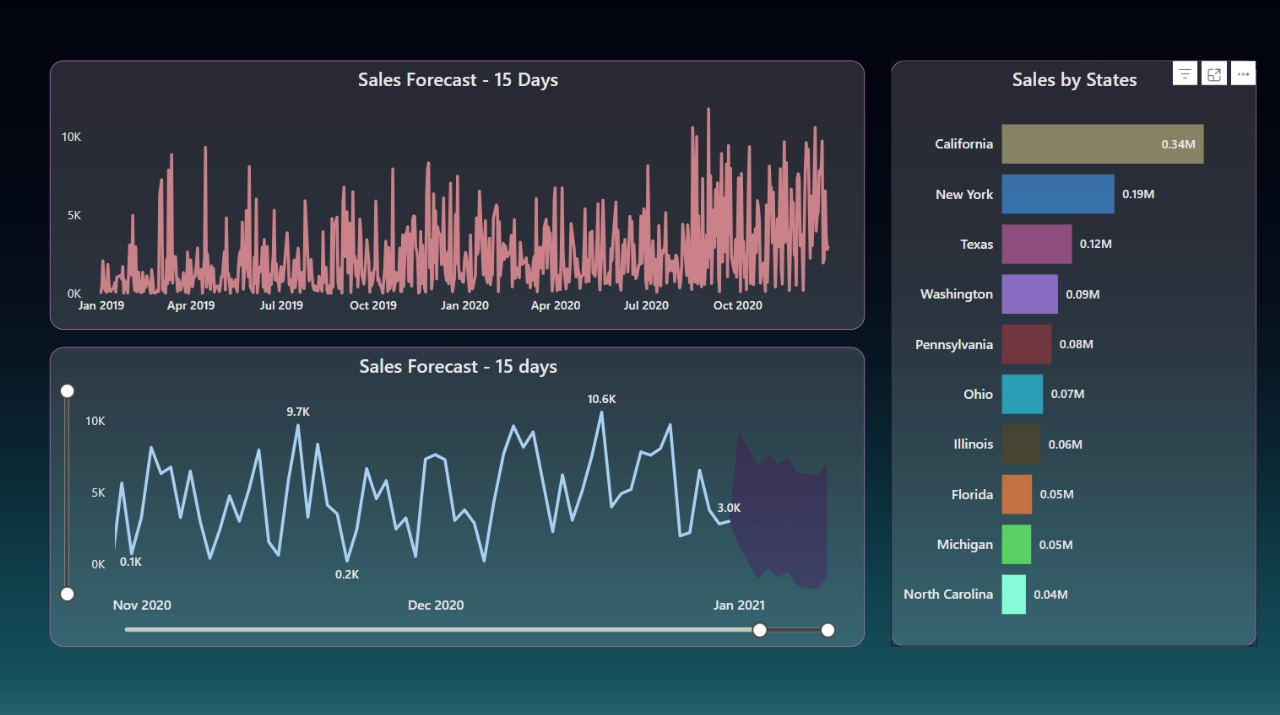

The page's visual inventory and layout, read from the dashboard file:
{"tool":"powerbi","page":{"name":"Forecast","canvas":[1280,720],"ordinal":1},"visuals":[{"type":"lineChart","title":"Sales Forecast - 15 days","fields":{"Y":["Sum(SuperStore_Sales_Dataset.Sales)"],"Category":["SuperStore_Sales_Dataset.Order Date.Variation.Date Hierarchy.Year","SuperStore_Sales_Dataset.Order Date.Variation.Date Hierarchy.Quarter","SuperStore_Sales_Dataset.Order Date.Variation.Date Hierarchy.Month","SuperStore_Sales_Dataset.Order Date.Variation.Date Hierarchy.Day"]},"box":[50,347.6,814.6,300],"z":0},{"type":"lineChart","title":"Sales Forecast - 15 Days","fields":{"Y":["Sum(SuperStore_Sales_Dataset.Sales)"],"Category":["SuperStore_Sales_Dataset.Order Date.Variation.Date Hierarchy.Year","SuperStore_Sales_Dataset.Order Date.Variation.Date Hierarchy.Quarter","SuperStore_Sales_Dataset.Order Date.Variation.Date Hierarchy.Month","SuperStore_Sales_Dataset.Order Date.Variation.Date Hierarchy.Day"]},"box":[50,61,814.6,269.5],"z":1000},{"type":"clusteredBarChart","title":"Sales by States","fields":{"Category":["SuperStore_Sales_Dataset.State"],"Y":["Sum(SuperStore_Sales_Dataset.Sales)"]},"box":[890.2,61,365.9,586.6],"z":2000}]}

Visuals, with their boxes in screenshot pixels (x1, y1, x2, y2), scaled from the page's 1280x720 canvas onto the 1280x715 screenshot:
"Sales Forecast - 15 days" lineChart: (x1=50, y1=345, x2=865, y2=643)
"Sales Forecast - 15 Days" lineChart: (x1=50, y1=61, x2=865, y2=328)
"Sales by States" clusteredBarChart: (x1=890, y1=61, x2=1256, y2=643)
